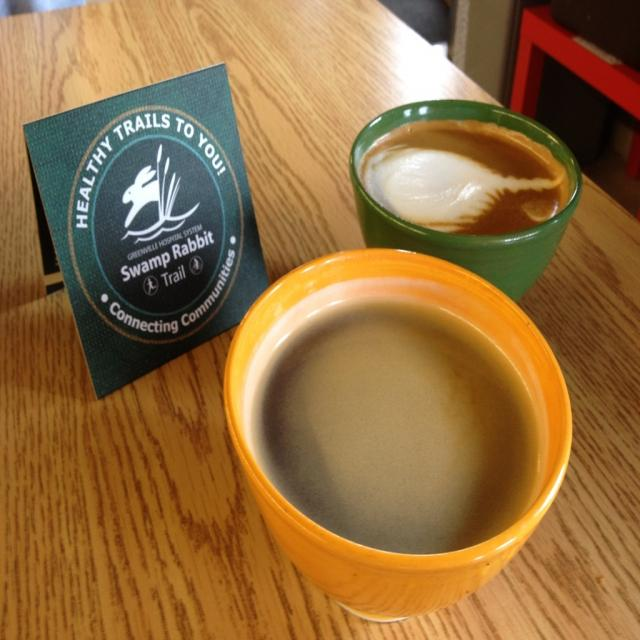Coffee: (250, 296, 538, 552), (345, 93, 570, 268)
